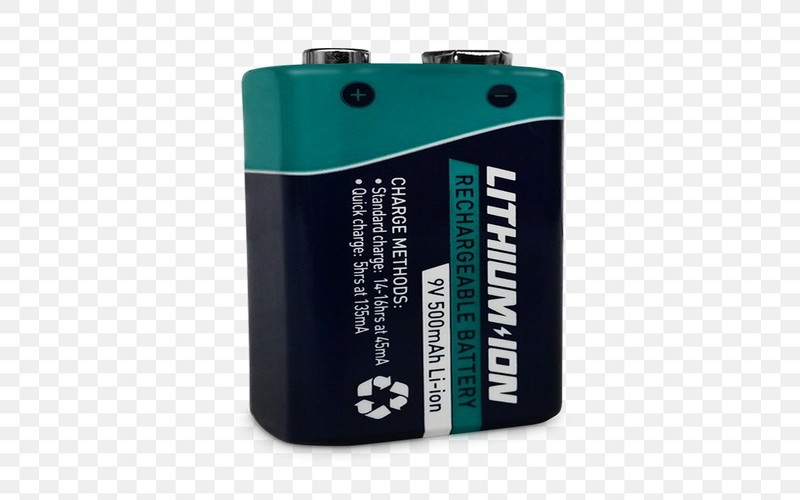Battery: (222, 29, 576, 459)
